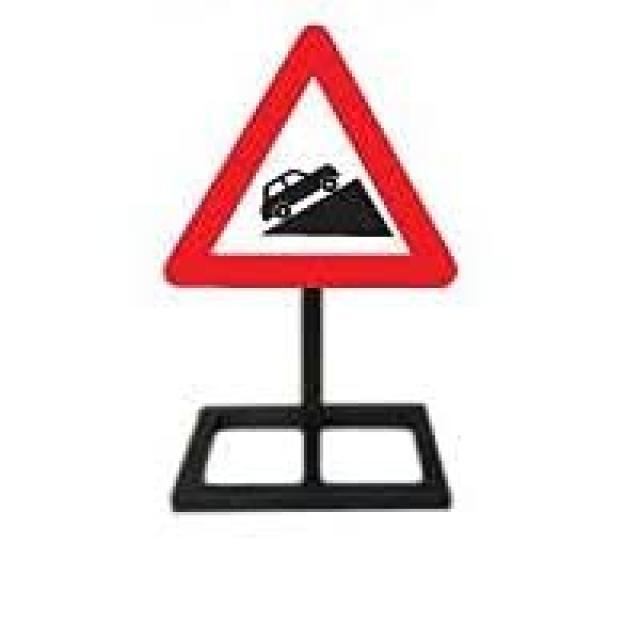steep ascent: (161, 25, 461, 296)
